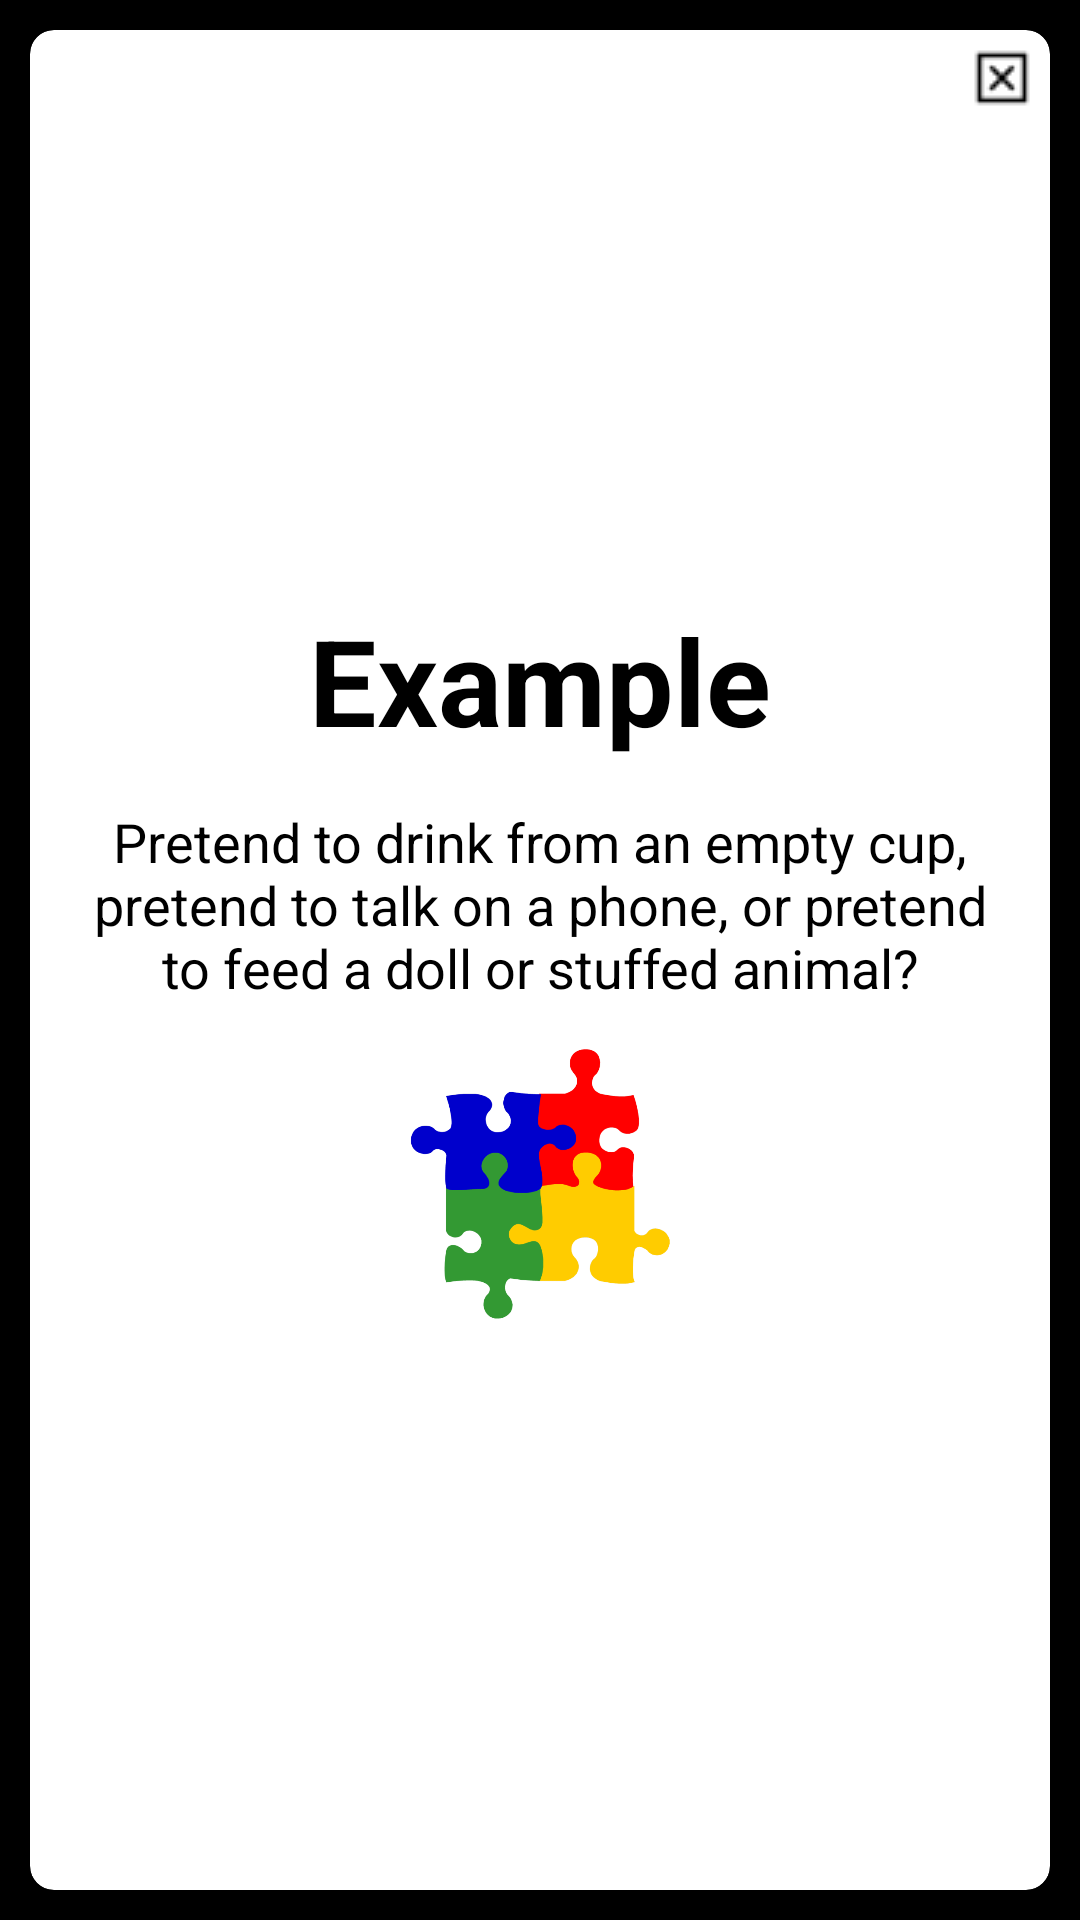

Named icons in this screenshot (1080 x 1920) and their centers, [x,y]:
autismpuzzle: [540,1184]
